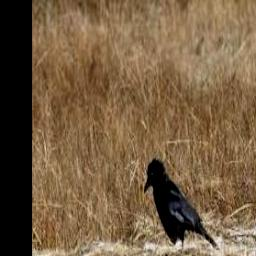Crow: (144, 156, 218, 251)
